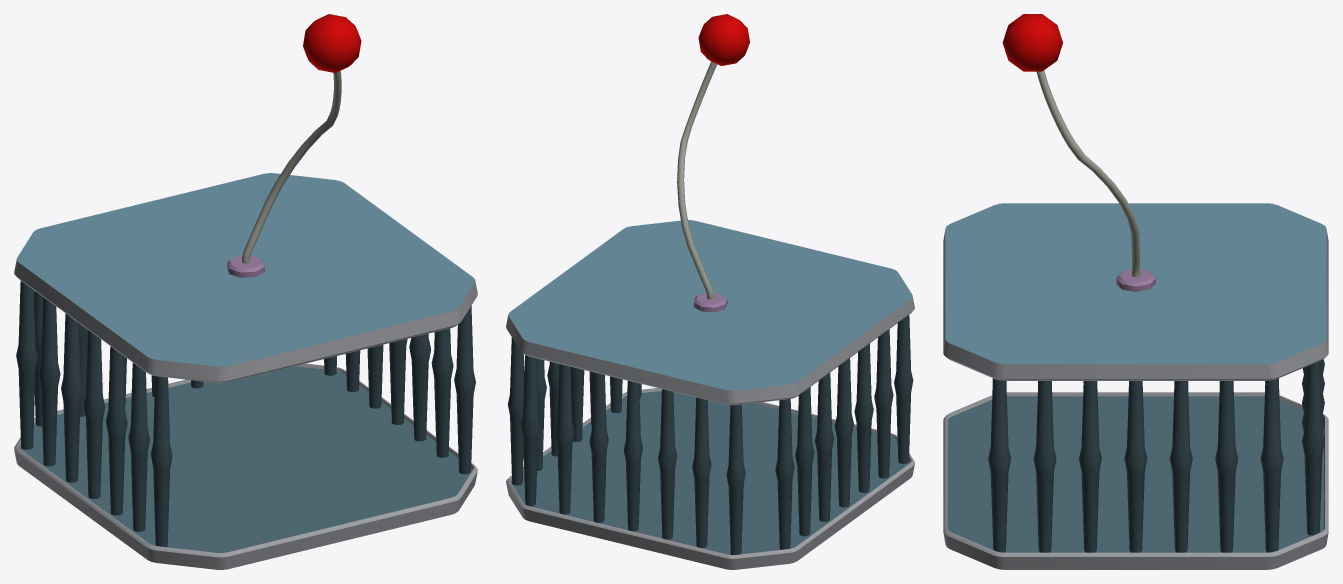
Rendered from ItemCage_Cage.fbx.
The picture shows the model from 3 angles, left to right: view 1: azimuth 30°, elevation 25°; view 2: azimuth 150°, elevation 25°; view 3: azimuth 270°, elevation 25°; orthographic projection. The views are drawn at different scales.
Parts seen in each view (by area): view 1: ItemCage_Cage; view 2: ItemCage_Cage; view 3: ItemCage_Cage.
Part boxes in pixels (x1,y1,x2,y2): ItemCage_Cage: [14, 14, 477, 569]; ItemCage_Cage: [506, 14, 914, 569]; ItemCage_Cage: [943, 14, 1328, 569].
Bounding box in the file's own units: 80.63 × 113 × 80.63.
2 materials, 1 textured.
